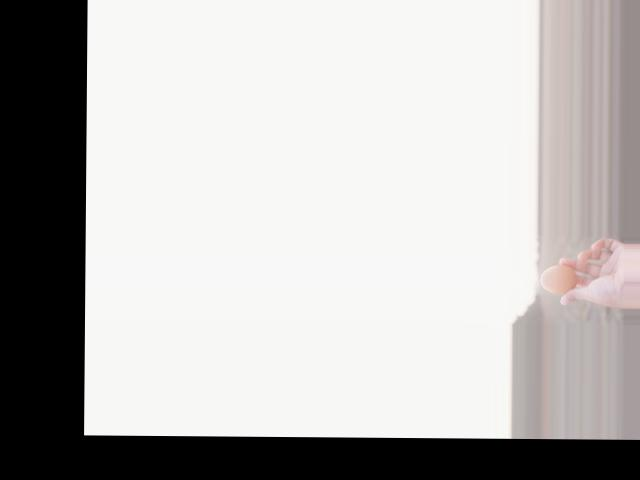egg: (540, 264, 576, 293)
